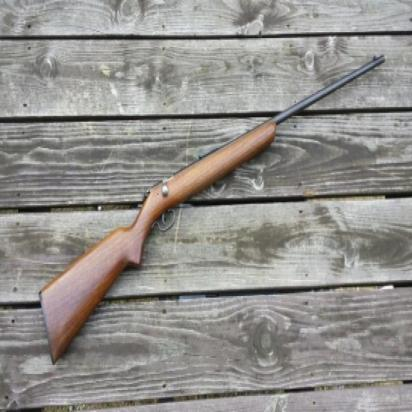Gun: (33, 45, 387, 370)
